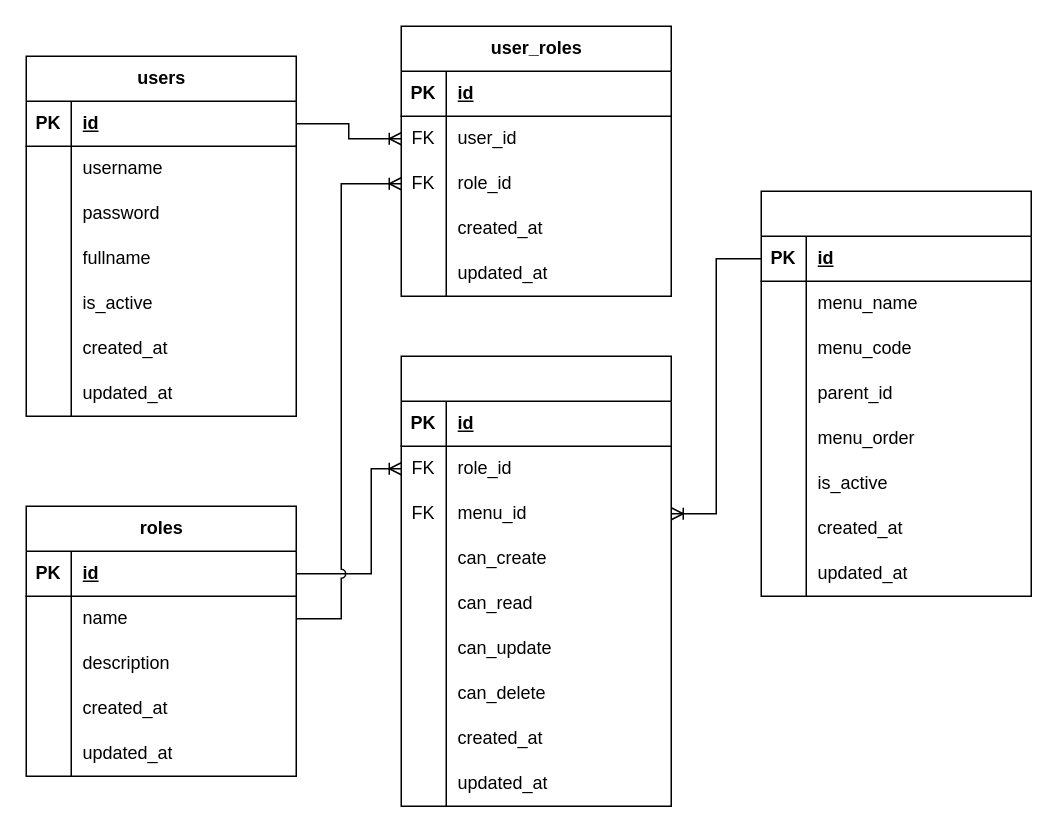
The diagram is 1058 pixels wide and 833 high, and some of its shapes have lost their labels. The box of each missing label's shape, as (x1, y1, x2, y2) in pixels:
menus: (760, 190, 1031, 596)
role_menus: (400, 355, 671, 806)
